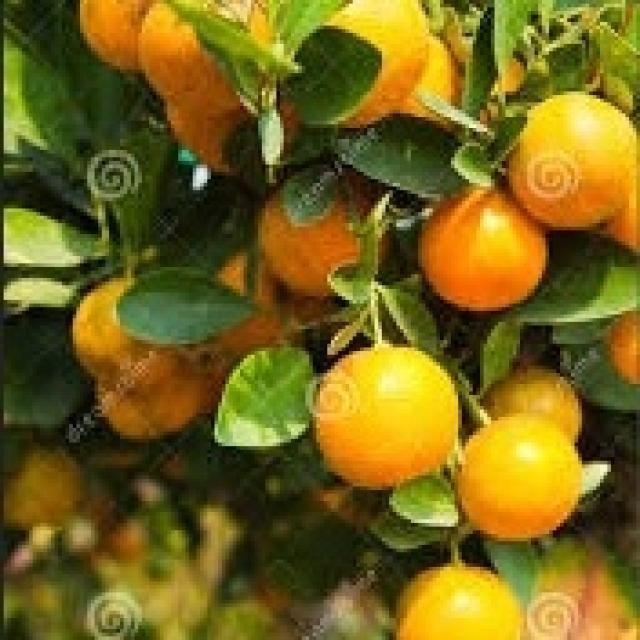Orange: (298, 326, 466, 490), (408, 164, 556, 322), (432, 395, 592, 538), (488, 80, 636, 230), (244, 150, 396, 296), (275, 0, 436, 133), (54, 264, 192, 392), (139, 3, 276, 122), (378, 552, 542, 636), (88, 336, 206, 447), (75, 0, 176, 71)
